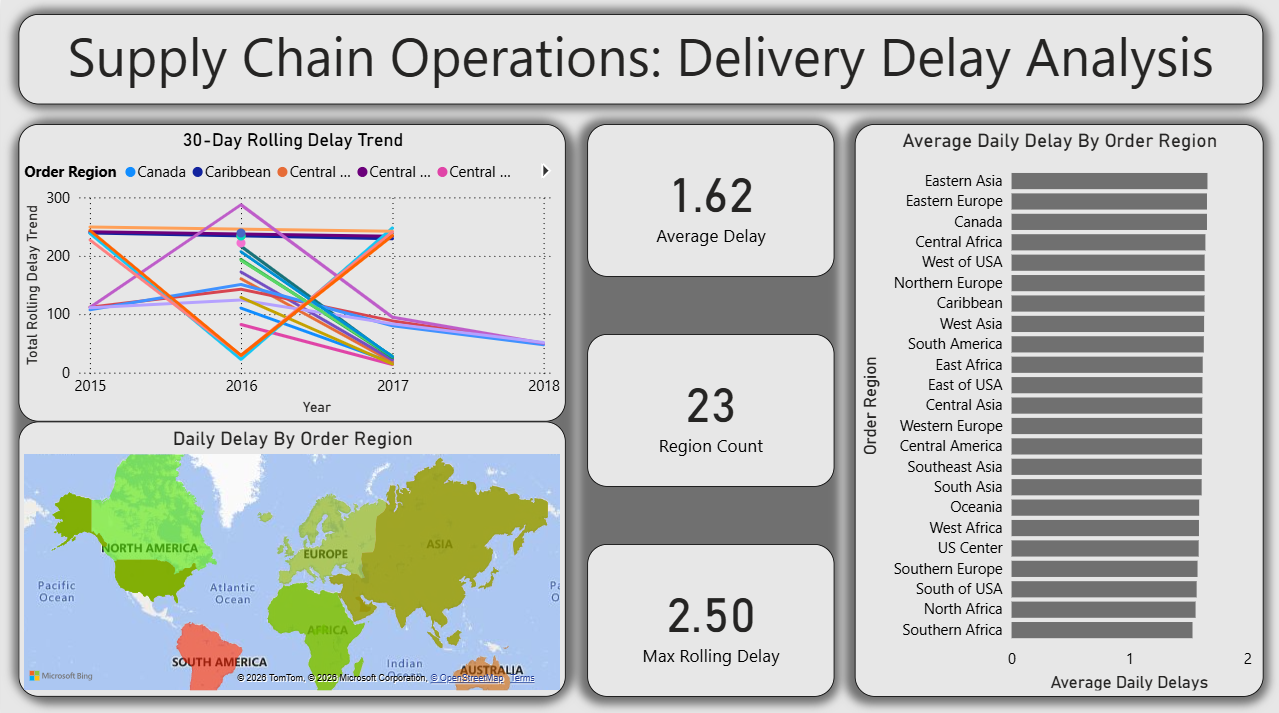

The dashboard page shown, as its layout file describes it:
{"tool":"powerbi","page":{"name":"Page 1","canvas":[1280,720],"ordinal":0},"visuals":[{"type":"card","fields":{"Values":["Rolling_Delays.Average_Delay"]},"box":[586.2,125,247.5,152.5],"z":0},{"type":"card","fields":{"Values":["Rolling_Delays.Region_Count"]},"box":[586.2,335,247.5,152.5],"z":1000},{"type":"card","fields":{"Values":["Rolling_Delays.Max_Rolling_Delay"]},"box":[586.2,545,247.5,152.5],"z":2000},{"type":"lineChart","title":"30-Day Rolling Delay Trend","fields":{"Category":["Rolling_Delays.order_day.Variation.Date Hierarchy.Year","Rolling_Delays.order_day.Variation.Date Hierarchy.Quarter","Rolling_Delays.order_day.Variation.Date Hierarchy.Month","Rolling_Delays.order_day.Variation.Date Hierarchy.Day"],"Y":["Sum(Rolling_Delays.rolling_30_day_delay)"],"Series":["Rolling_Delays.order_region"]},"box":[17.5,125,547.5,297.5],"z":3000},{"type":"filledMap","title":"Daily Delay By Order Region","fields":{"Category":["Rolling_Delays.order_region"]},"box":[17.5,422.5,547.5,275],"z":4000},{"type":"clusteredBarChart","title":"Average Daily Delay By Order Region","fields":{"Y":["Avg(Rolling_Delays.daily_delay)"],"Category":["Rolling_Delays.order_region"]},"box":[853.8,125,408.8,572.5],"z":5000},{"type":"textbox","box":[17.5,15,1245,90],"z":6000}]}

Visuals, with their boxes in screenshot pixels (x1, y1, x2, y2), scaled from the page's 1280x720 canvas onto the 1279x713 screenshot:
card - Rolling_Delays.Average_Delay: 586,124,833,275
card - Rolling_Delays.Region_Count: 586,332,833,483
card - Rolling_Delays.Max_Rolling_Delay: 586,540,833,691
"30-Day Rolling Delay Trend" lineChart: 17,124,565,418
"Daily Delay By Order Region" filledMap: 17,418,565,691
"Average Daily Delay By Order Region" clusteredBarChart: 853,124,1262,691
textbox: 17,15,1262,104
